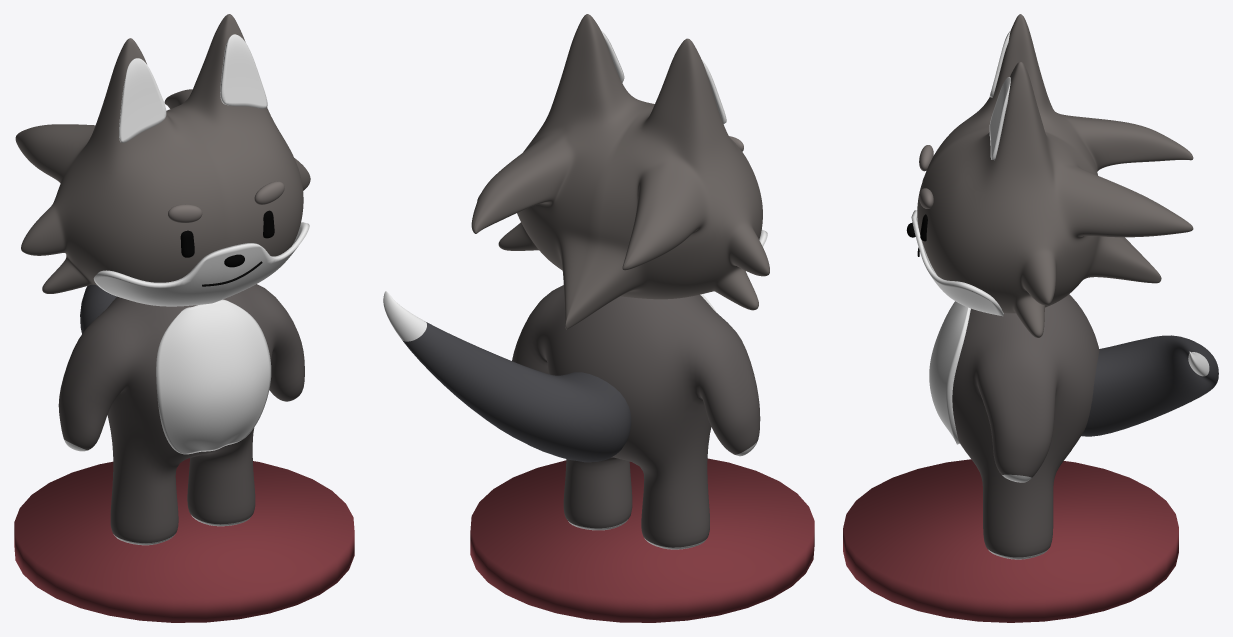
File: ElLoboFeroz.gltf
The picture shows the model from 3 angles, left to right: view 1: azimuth 30°, elevation 25°; view 2: azimuth 150°, elevation 25°; view 3: azimuth 270°, elevation 25°; orthographic projection. The views are drawn at different scales.
Parts seen in each view (by area): view 1: Lobo_Feroz; view 2: Lobo_Feroz; view 3: Lobo_Feroz.
Boxes of the visible parts, box(x1,y1,x2,y2) form: Lobo_Feroz: box(14, 14, 354, 622); Lobo_Feroz: box(383, 14, 814, 622); Lobo_Feroz: box(843, 14, 1218, 622).
Bounding box in the file's own units: 3.1 × 4.96 × 3.28.
